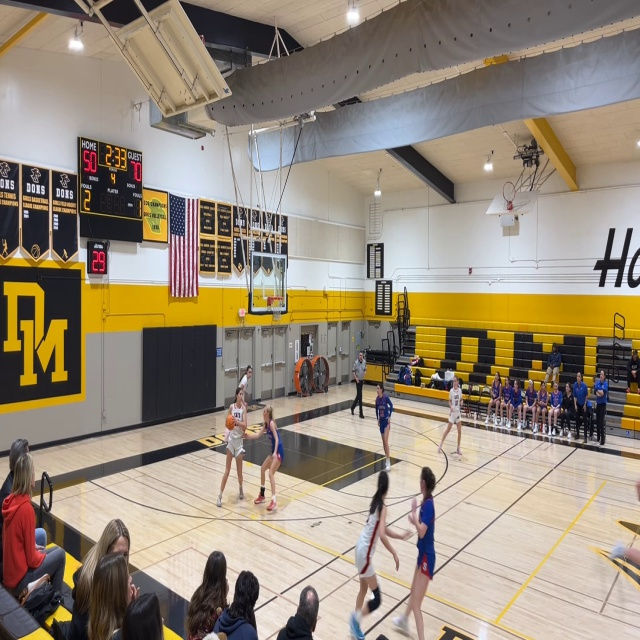Basketball: (225, 415, 236, 429)
